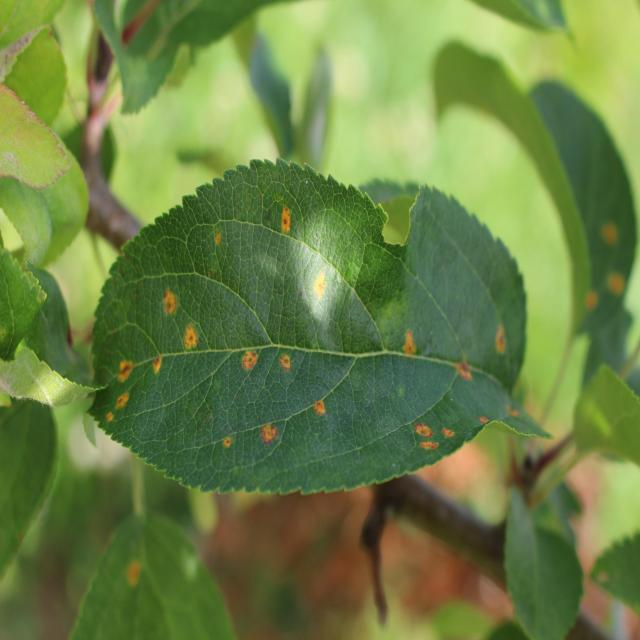Rust: (403, 402, 460, 460), (297, 260, 335, 310), (386, 324, 428, 368), (96, 392, 141, 431), (171, 318, 204, 364), (490, 312, 514, 372), (233, 336, 263, 382), (454, 344, 477, 401), (273, 195, 296, 248), (272, 337, 296, 387), (505, 395, 538, 431), (154, 289, 186, 326), (254, 418, 286, 452), (110, 350, 136, 384), (310, 381, 329, 422), (146, 346, 166, 382), (470, 408, 500, 432), (208, 229, 232, 253), (224, 431, 236, 456)
